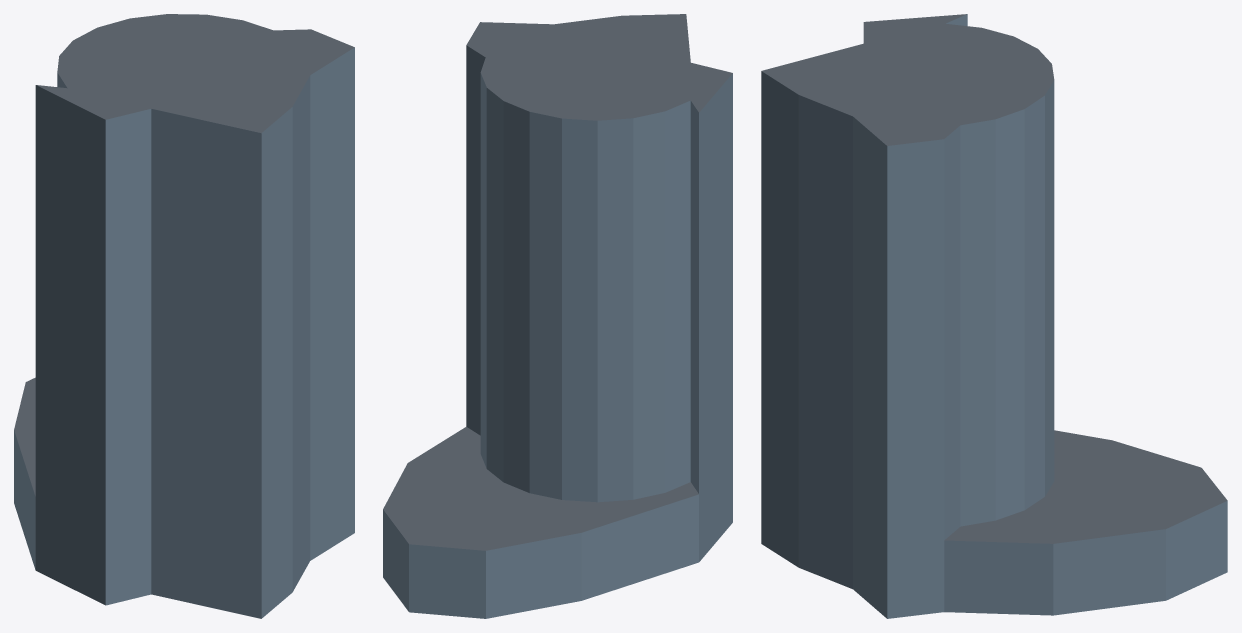
3 views of the same model, side by side, from view 1: azimuth 30°, elevation 25°; view 2: azimuth 150°, elevation 25°; view 3: azimuth 270°, elevation 25° (orthographic). The views are drawn at different scales.
Visible parts, largest first — view 1: HP-w488968699; view 2: HP-w488968699; view 3: HP-w488968699.
Part boxes in pixels (left/top/right/bottom): HP-w488968699: left=14, top=14, right=354, bottom=618; HP-w488968699: left=383, top=14, right=732, bottom=618; HP-w488968699: left=761, top=14, right=1227, bottom=618.
Bounding box in the file's own units: 59.3 × 99 × 88.51.
